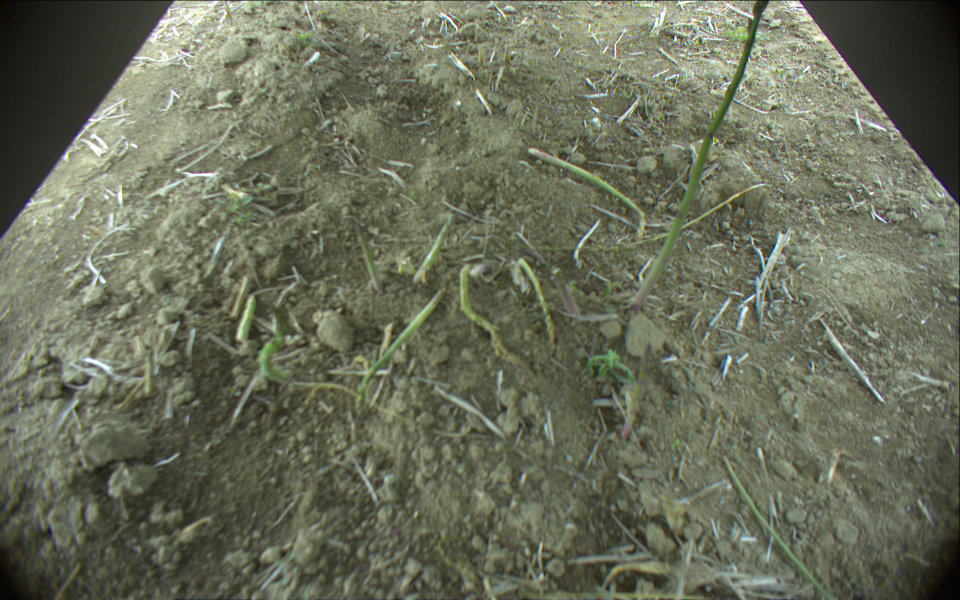aspa: (626, 1, 771, 306), (540, 182, 772, 253), (722, 456, 834, 600), (531, 148, 646, 234), (363, 287, 449, 402), (460, 268, 519, 372), (232, 298, 296, 388), (510, 259, 565, 352), (417, 217, 456, 285), (354, 218, 383, 292), (550, 263, 583, 315)
